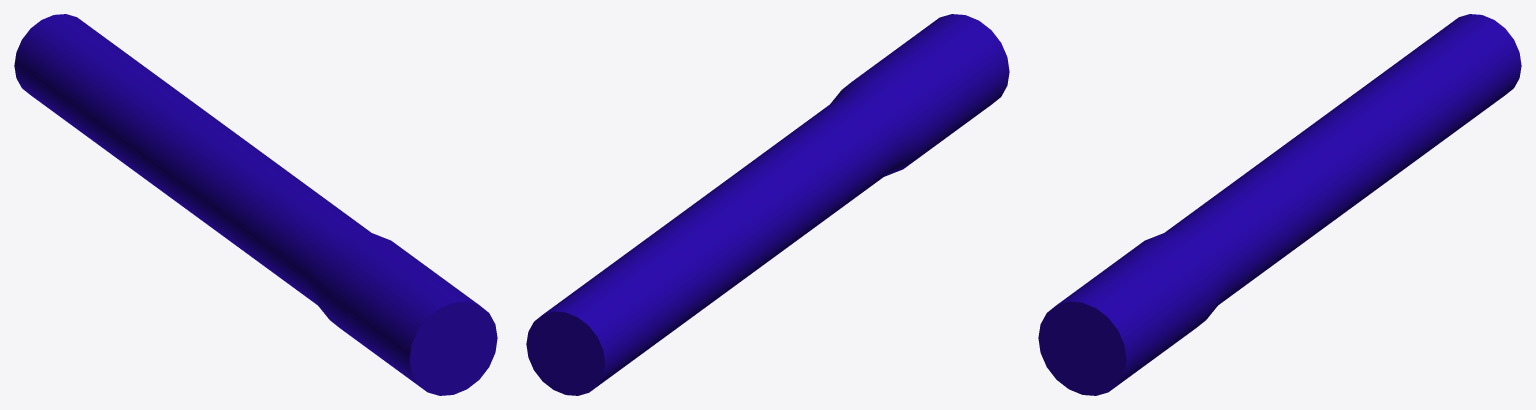
Rendered from Ing_Marker.fbx.
The picture shows the model from 3 angles, left to right: view 1: azimuth 30°, elevation 25°; view 2: azimuth 150°, elevation 25°; view 3: azimuth 330°, elevation 25°; orthographic projection.
Parts seen in each view (by area): view 1: Ing_Marker_low; view 2: Ing_Marker_low; view 3: Ing_Marker_low.
Boxes of the visible parts, x1,y1,x2,y2 form: Ing_Marker_low: (14, 14, 497, 395); Ing_Marker_low: (526, 14, 1009, 395); Ing_Marker_low: (1038, 14, 1521, 395).
Size of the model in its own units: 3.95 by 3.95 by 31.03.
